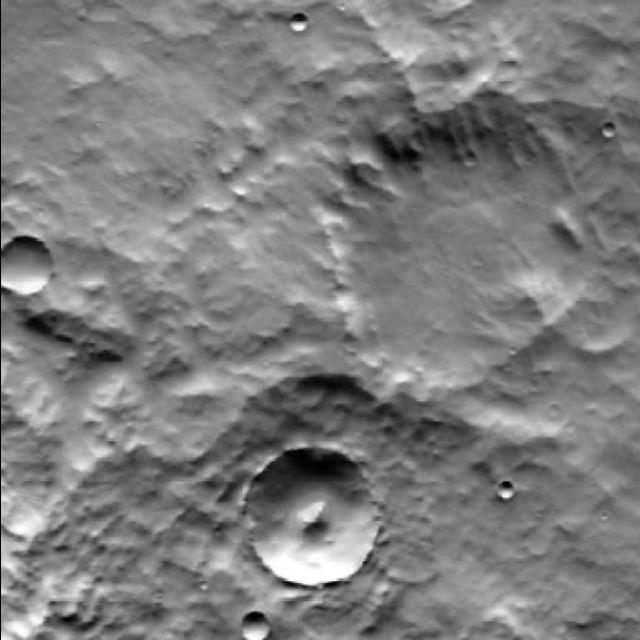crater: (323, 116, 592, 393), (242, 457, 378, 595), (0, 240, 52, 300), (302, 554, 330, 571), (494, 482, 512, 500), (292, 14, 308, 32)
